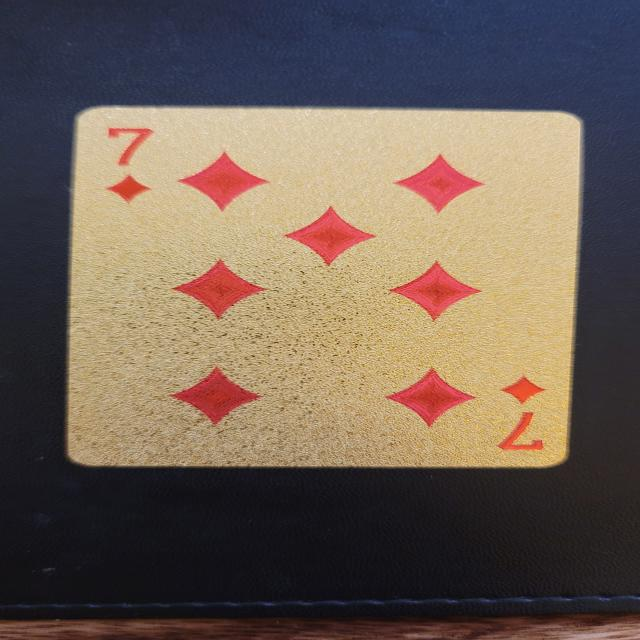7 of diamonds: (64, 105, 586, 469)
